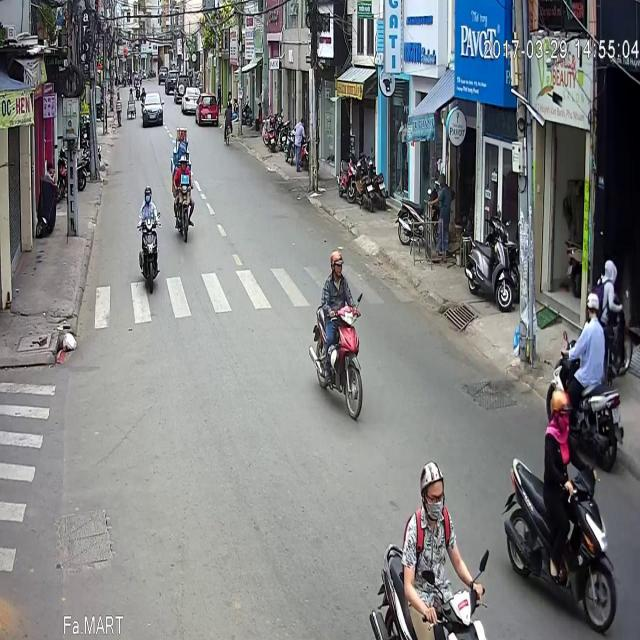bicycle: (548, 233, 622, 414), (310, 192, 364, 362), (222, 41, 234, 87)
car: (141, 35, 163, 70), (195, 34, 217, 68)
motorcycle: (499, 323, 619, 609), (136, 125, 162, 236), (172, 94, 196, 187)
